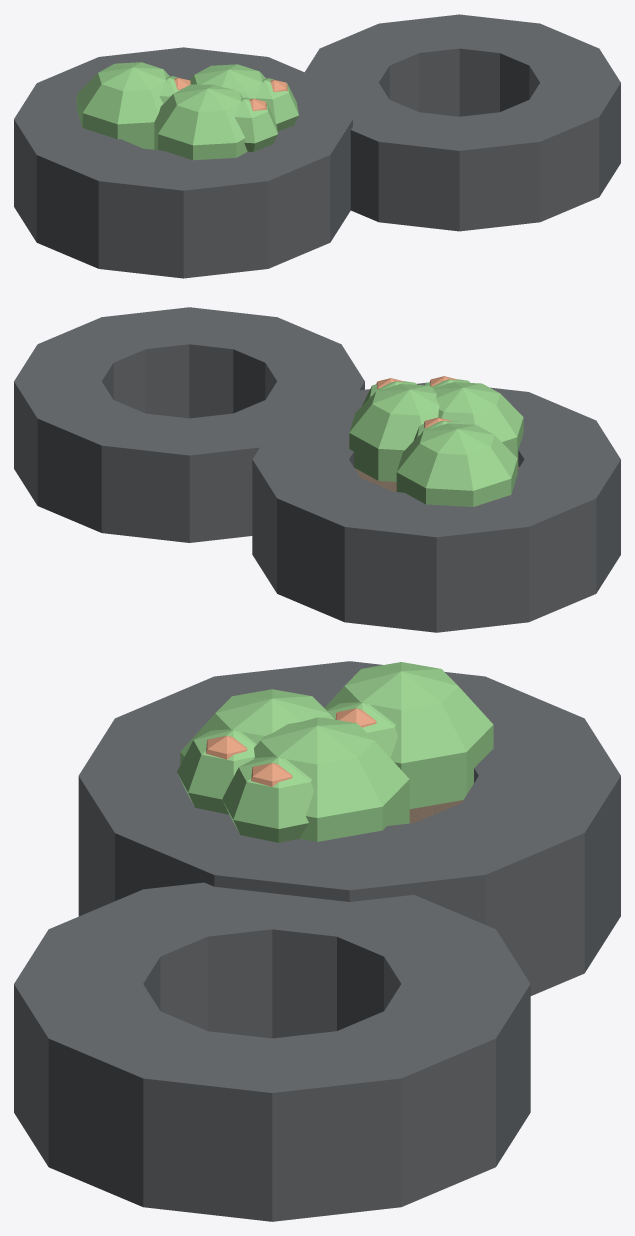
Rendered from allotments-and-community-garden-tyre-planter-a3517278__35177.glb.
3 renders of one model, top to bottom at view 1: azimuth 30°, elevation 25°; view 2: azimuth 150°, elevation 25°; view 3: azimuth 270°, elevation 25°, orthographic. The views are drawn at different scales.
Parts seen in each view (by area): view 1: tyre-planter-charcoal, tyre-planter-leaf, tyre-planter-terracotta; view 2: tyre-planter-charcoal, tyre-planter-leaf; view 3: tyre-planter-charcoal, tyre-planter-leaf, tyre-planter-terracotta.
Part boxes in pixels (bbox=[...]): tyre-planter-charcoal: bbox=[14, 14, 620, 278]; tyre-planter-leaf: bbox=[76, 62, 298, 160]; tyre-planter-terracotta: bbox=[174, 77, 287, 110]; tyre-planter-charcoal: bbox=[14, 307, 620, 632]; tyre-planter-leaf: bbox=[349, 379, 523, 506]; tyre-planter-charcoal: bbox=[14, 661, 620, 1221]; tyre-planter-leaf: bbox=[177, 662, 493, 842]; tyre-planter-terracotta: bbox=[206, 708, 376, 786].
Size of the model in its own units: 1.54 by 0.372 by 0.9401.
Materials: 4 (1 with a texture image).
